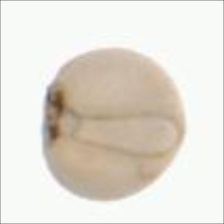L5: (64, 106, 180, 157), (40, 81, 73, 151), (174, 91, 187, 165)
L6: (36, 46, 190, 205)
